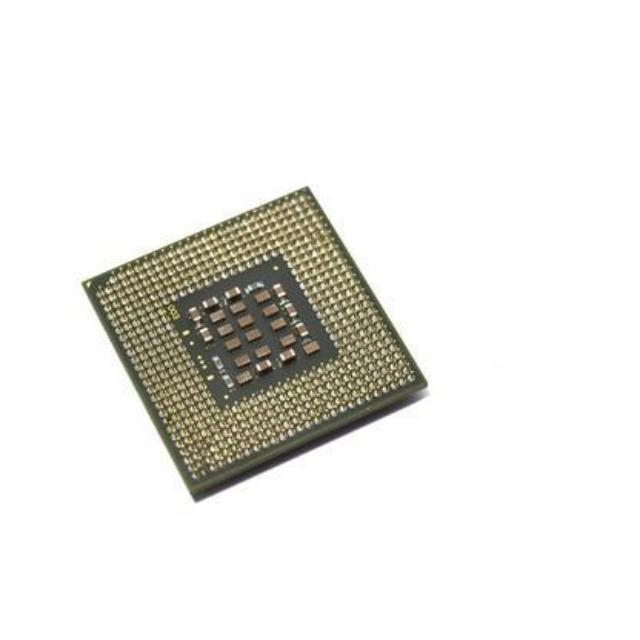CPU: (86, 185, 423, 493)
